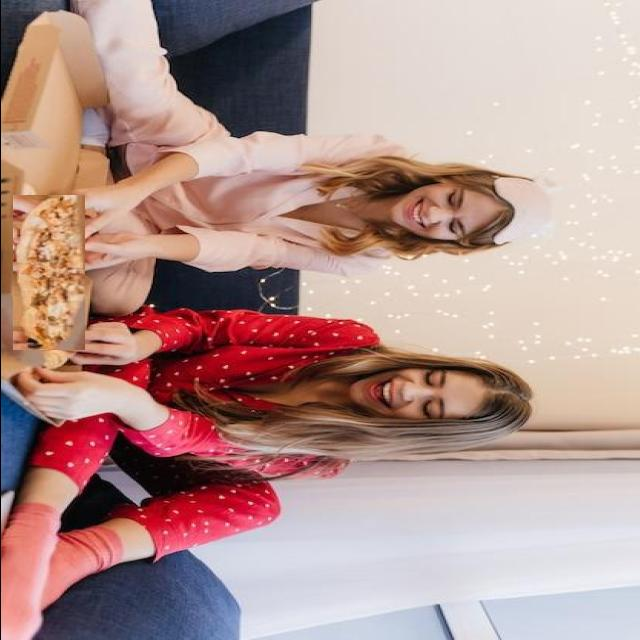pizza: (12, 195, 84, 350)
